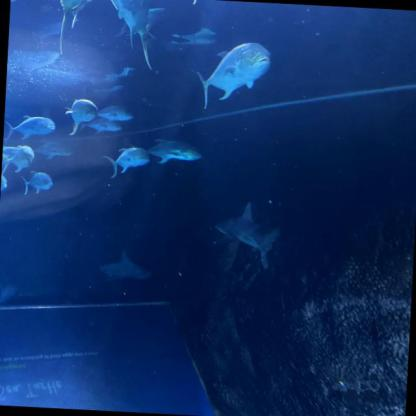fish: (193, 40, 271, 112), (101, 0, 169, 71), (57, 0, 102, 60), (124, 137, 202, 166), (101, 146, 150, 180), (3, 115, 56, 142), (64, 98, 97, 137), (2, 144, 36, 176), (19, 170, 53, 196), (34, 140, 75, 160), (78, 117, 123, 135), (97, 104, 135, 121), (2, 145, 19, 168), (0, 172, 9, 200)
shark: (212, 200, 283, 270), (100, 249, 152, 285)
